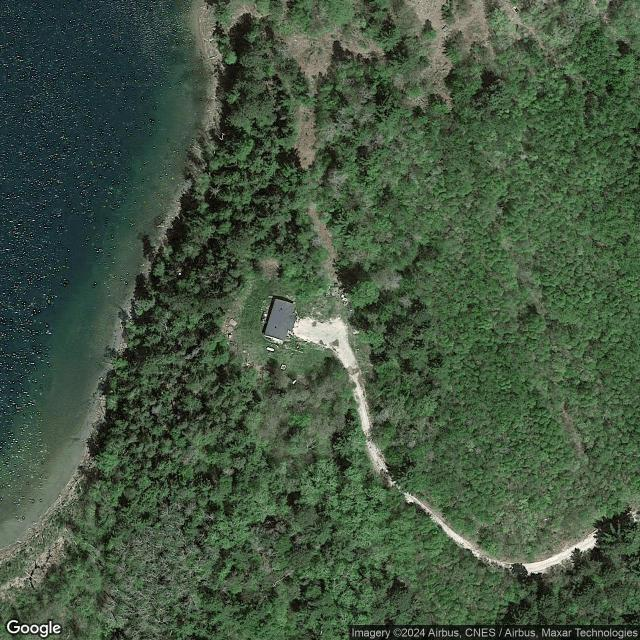Propane: (265, 345, 276, 353)
